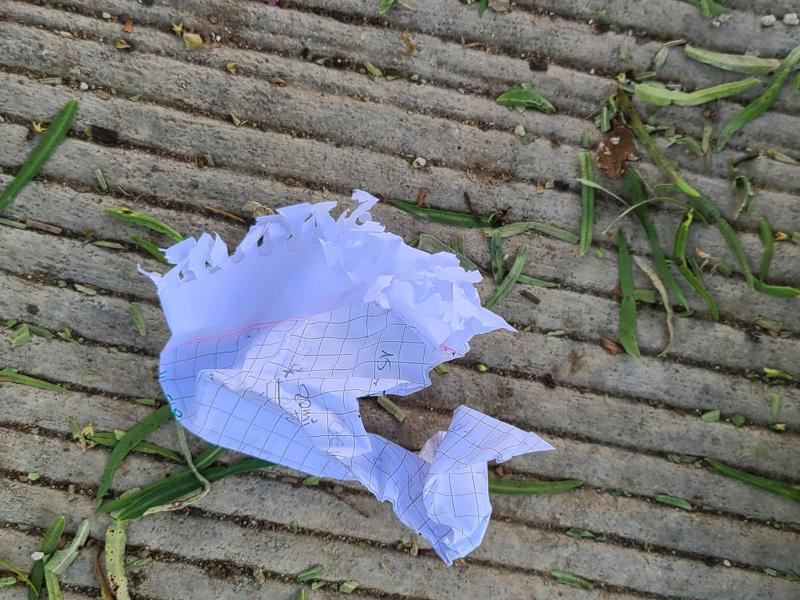papel: (139, 193, 555, 566)
